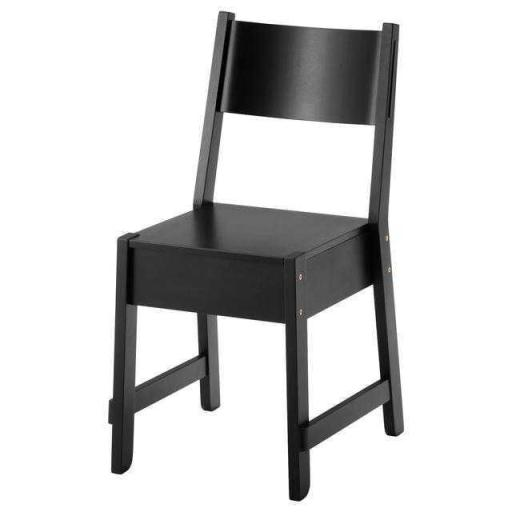chair: (96, 4, 410, 506)
